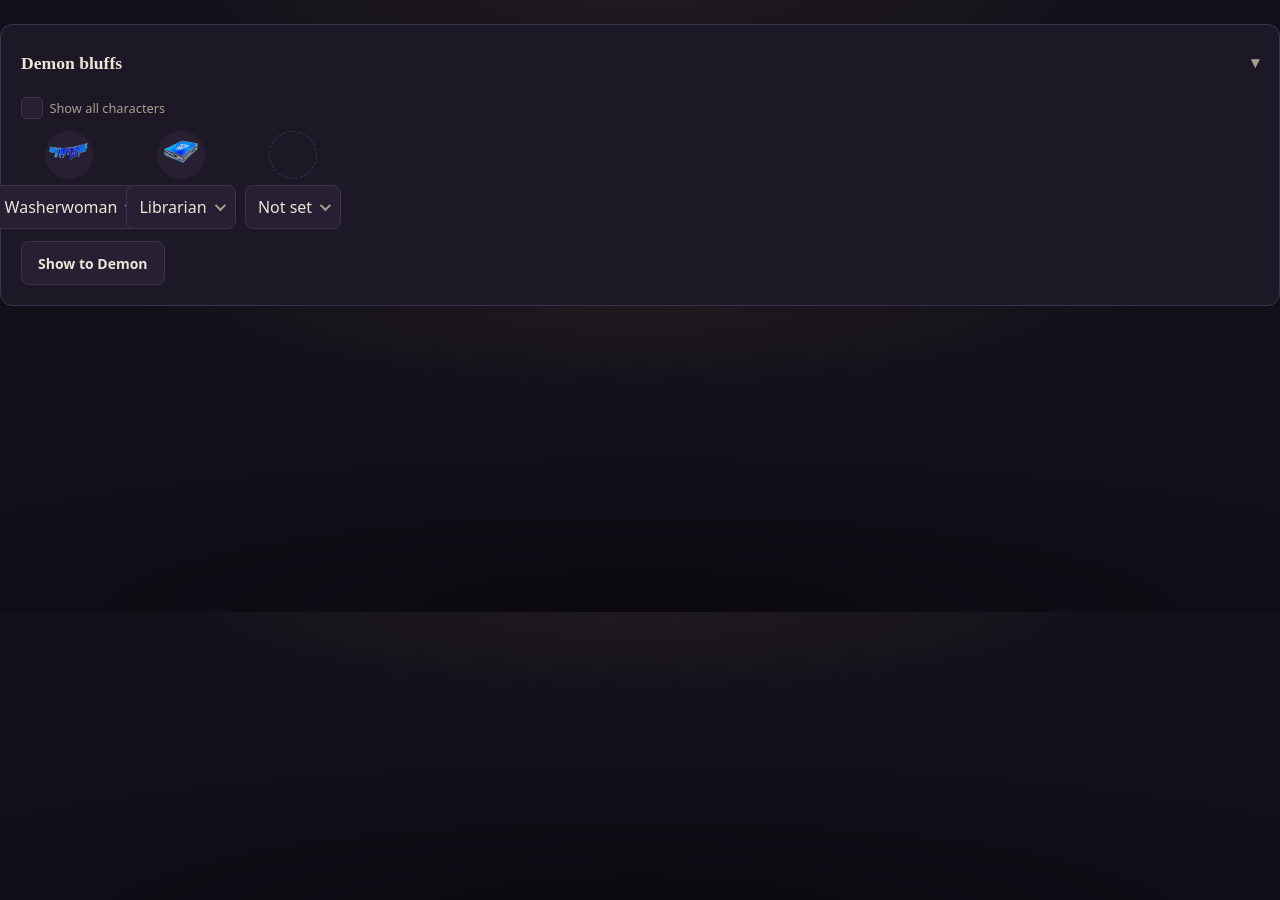
DemonBluffsPanel › shows the three bluff tokens full-screen and closes deliberately
Click the button "Show to Demon" at (93, 263), box [21,241,165,285]
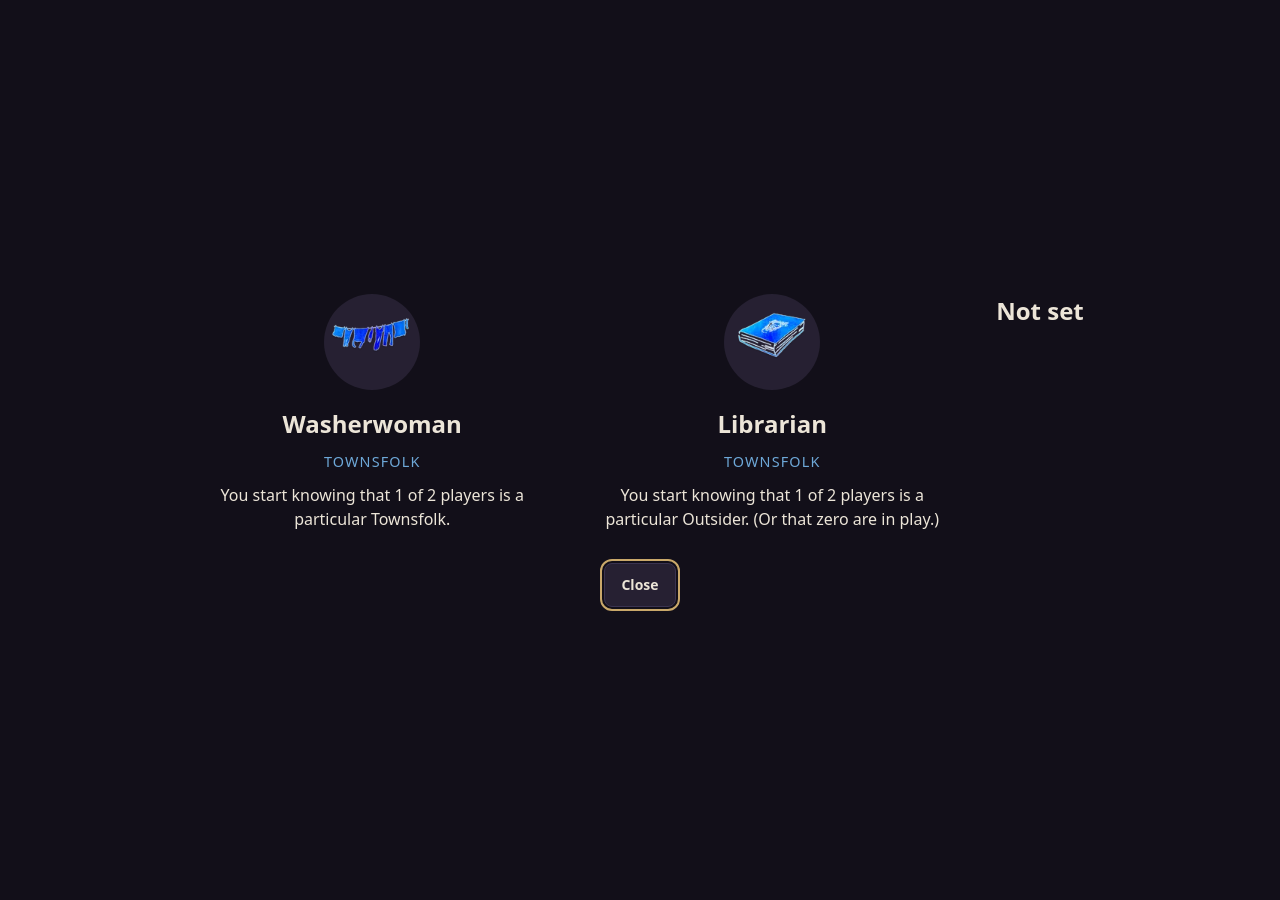
Expected: the text "Washerwoman" is shown, [283,406,462,440]
Expected: the text "Librarian" is shown, [718,406,827,440]
Click the button "Close" at (640, 584), box [604,562,676,606]
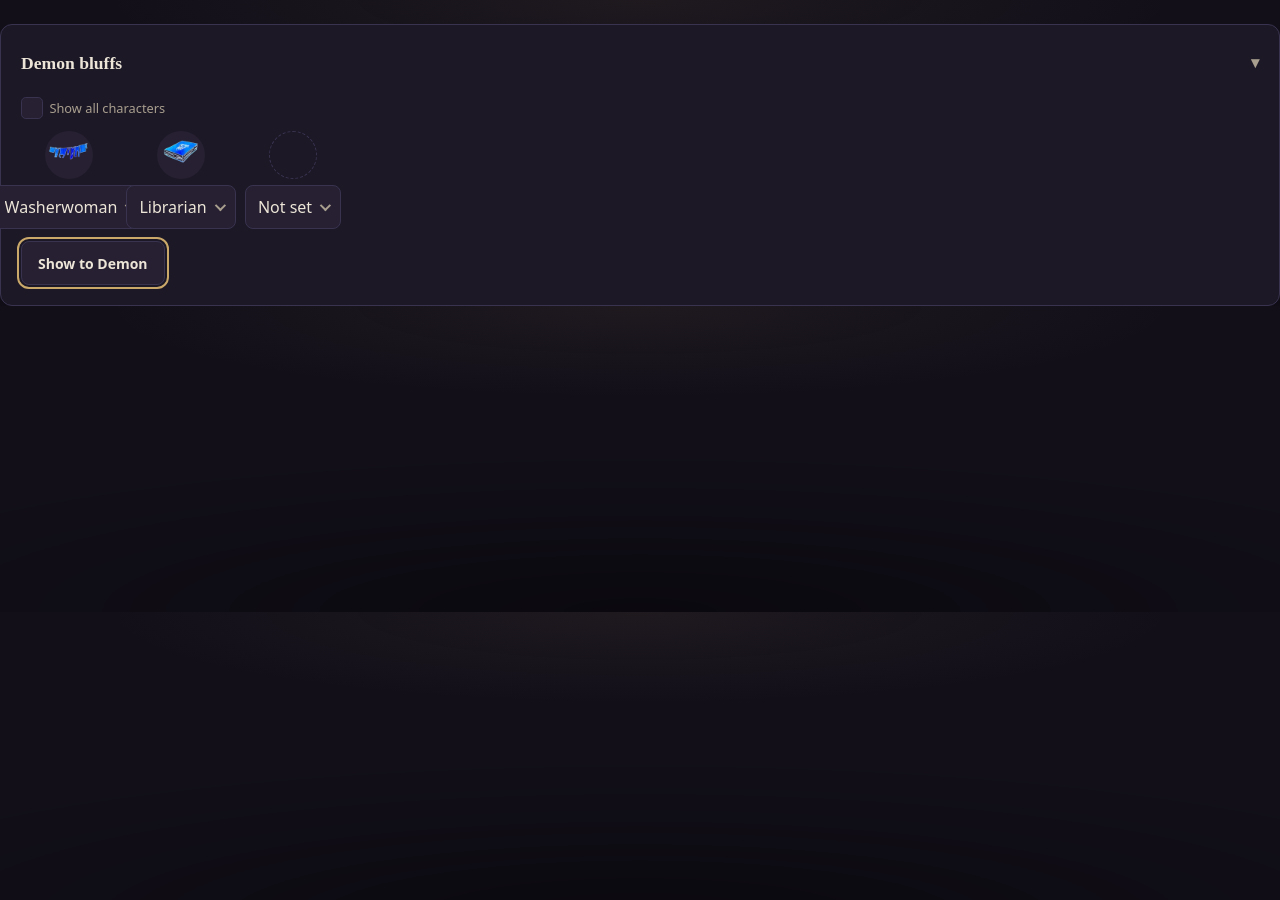
Expected: the dialog is gone
